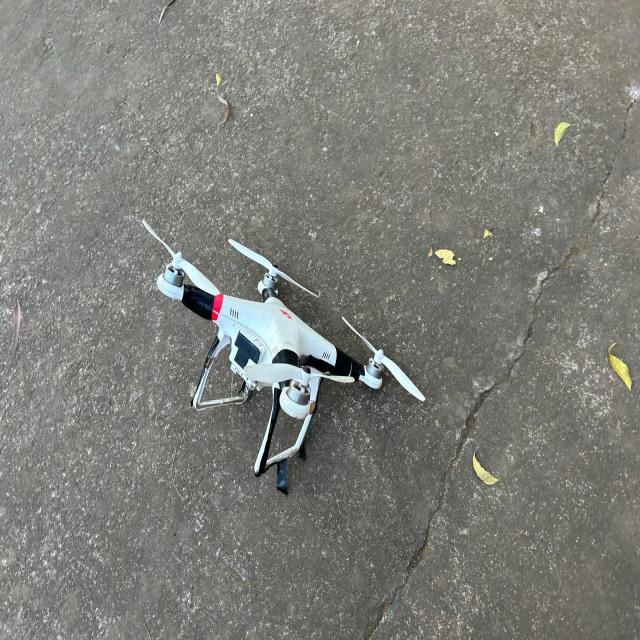drone: (75, 156, 458, 534)
